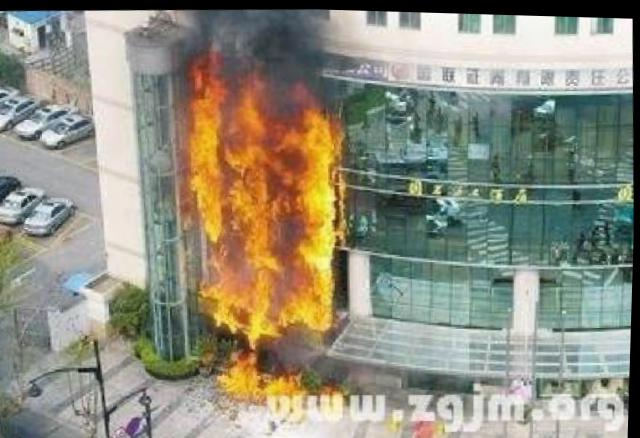fire: (279, 101, 340, 324), (223, 84, 274, 267), (187, 58, 227, 243), (228, 264, 274, 308), (207, 269, 236, 327), (218, 354, 257, 397), (247, 306, 281, 336), (266, 372, 311, 394)
